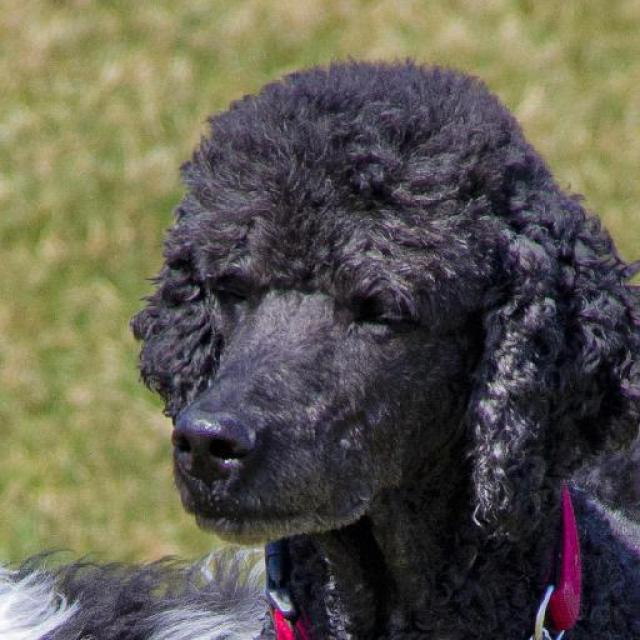relax: (113, 44, 627, 544)
